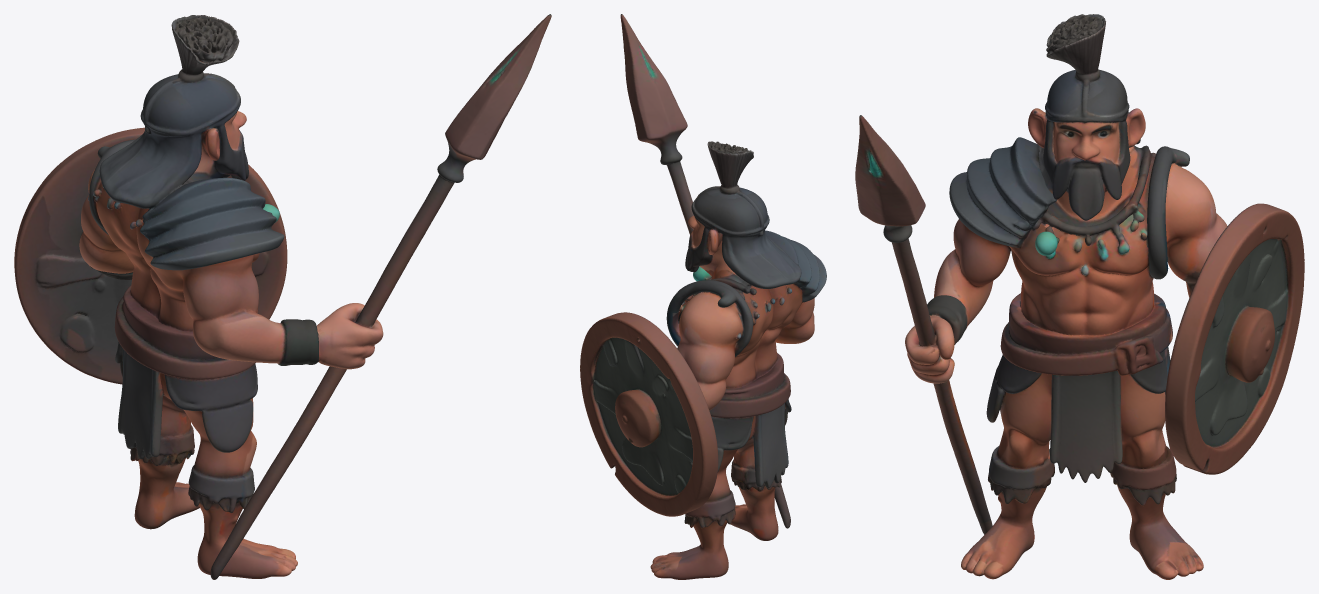
File: guard 2.glb
3 renders of one model, left to right at view 1: azimuth 30°, elevation 25°; view 2: azimuth 150°, elevation 25°; view 3: azimuth 270°, elevation 25°, orthographic. The views are drawn at different scales.
Parts seen in each view (by area): view 1: tripo_node_1a70f99c-6dec-4a2b-ae76-c0102d27ae1a; view 2: tripo_node_1a70f99c-6dec-4a2b-ae76-c0102d27ae1a; view 3: tripo_node_1a70f99c-6dec-4a2b-ae76-c0102d27ae1a.
Part boxes in pixels (bbox=[...]): tripo_node_1a70f99c-6dec-4a2b-ae76-c0102d27ae1a: bbox=[14, 14, 551, 579]; tripo_node_1a70f99c-6dec-4a2b-ae76-c0102d27ae1a: bbox=[580, 14, 826, 579]; tripo_node_1a70f99c-6dec-4a2b-ae76-c0102d27ae1a: bbox=[855, 14, 1304, 579].
Bounding box in the file's own units: 0.6337 × 1 × 0.7206.
1 material, 1 textured.
